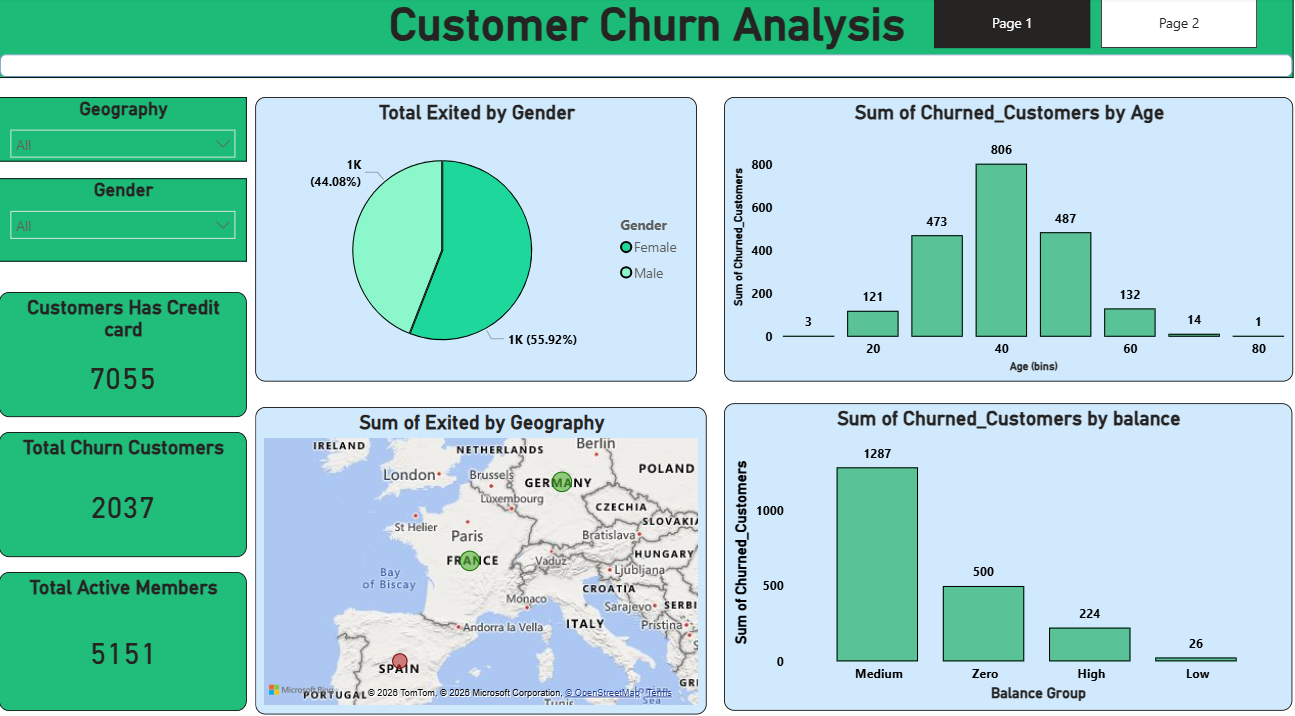

What the dashboard file says about the page in this screenshot:
{"tool":"powerbi","page":{"name":"Page 1","canvas":[1280,720],"ordinal":0},"visuals":[{"type":"pieChart","title":"Total Exited by Gender","fields":{"Category":["cleaned_churn.Gender"],"Y":["Sum(cleaned_churn.Exited)"]},"box":[251.1,97.4,432.2,278.6],"z":0},{"type":"map","fields":{"Size":["Sum(cleaned_churn.Exited)"],"Category":["cleaned_churn.Geography"]},"box":[251.1,400.7,441.9,300.5],"z":1000},{"type":"clusteredColumnChart","title":"Sum of Churned_Customers by Age ","fields":{"Category":["cleaned_churn.Age (bins)"],"Y":["Sum(cleaned_churn.Churned_Customers)"]},"box":[709.4,97.4,557.1,278.6],"z":2000},{"type":"clusteredColumnChart","title":"Sum of Churned_Customers by balance ","fields":{"Y":["Sum(cleaned_churn.Churned_Customers)"],"Category":["cleaned_churn.Balance Group"]},"box":[709.4,397.9,555.7,300.5],"z":3000},{"type":"card","title":"Customers Has Credit card","fields":{"Values":["CountNonNull(cleaned_churn.HasCrCard)"]},"box":[0,288.6,242.1,122.3],"z":4000},{"type":"card","title":"Total Churn Customers","fields":{"Values":["Sum(cleaned_churn.Exited)"]},"box":[0,425.5,242.1,122.3],"z":5000},{"type":"card","title":"Total Active Members","fields":{"Values":["Sum(cleaned_churn.IsActiveMember)"]},"box":[0,562.5,242.1,135.7],"z":6000},{"type":"shape","title":"Customer Churn Analysis","box":[0,0,1266.6,79.6],"z":7000},{"type":"slicer","title":"Geography","fields":{"Values":["cleaned_churn.Geography"]},"box":[0,97.8,242.1,63.6],"z":8000},{"type":"slicer","title":"Gender","fields":{"Values":["cleaned_churn.Gender"]},"box":[0,177.3,242.1,81.9],"z":9000},{"type":"pageNavigator","box":[914.7,0,316.7,50.1],"z":10000}]}

Visuals, with their boxes in screenshot pixels (x1, y1, x2, y2), scaled from the page's 1280x720 canvas onto the 1295x716 screenshot:
"Total Exited by Gender" pieChart: locate(254, 97, 691, 374)
map - Sum(cleaned_churn.Exited) x cleaned_churn.Geography: locate(254, 398, 701, 697)
"Sum of Churned_Customers by Age " clusteredColumnChart: locate(718, 97, 1281, 374)
"Sum of Churned_Customers by balance " clusteredColumnChart: locate(718, 396, 1280, 695)
"Customers Has Credit card" card: locate(0, 287, 245, 409)
"Total Churn Customers" card: locate(0, 423, 245, 545)
"Total Active Members" card: locate(0, 559, 245, 694)
"Customer Churn Analysis" shape: locate(0, 0, 1281, 79)
"Geography" slicer: locate(0, 97, 245, 161)
"Gender" slicer: locate(0, 176, 245, 258)
pageNavigator: locate(925, 0, 1246, 50)
